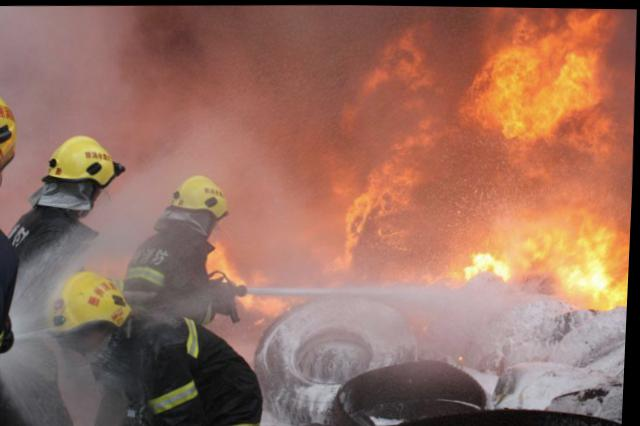fire: (471, 6, 623, 149), (510, 208, 632, 304), (370, 134, 417, 217), (330, 185, 371, 273), (463, 241, 509, 280), (205, 239, 247, 279), (240, 291, 290, 313)
